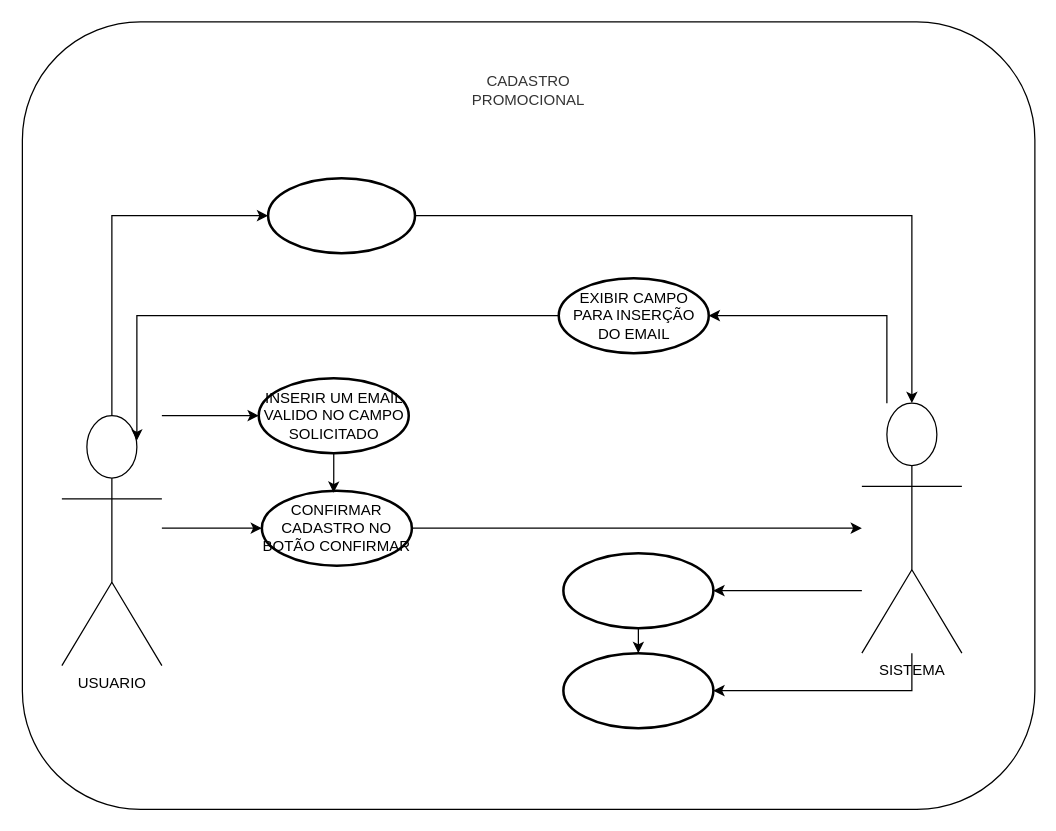
This 1056x831 diagram has some shape labels left out. Each missing label, with the box of its shape:
ACESSAR INTERFACE: (266, 176, 416, 254)
EXIBIR MENSAGEM QUE O EMAIL FOI CADASTRADO COM SUCESSO: (562, 651, 714, 729)
SALVAR EMAIL NO BANCO DE DADOS: (562, 551, 714, 629)
